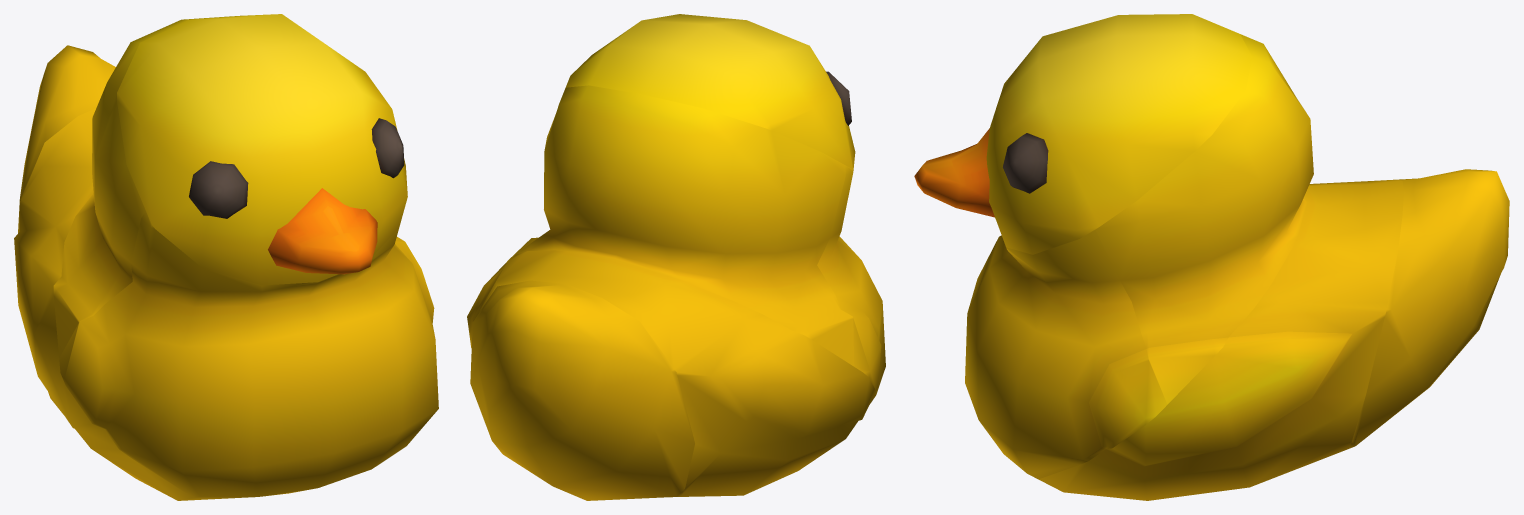
The model's file is Duck Toy break.fbx.
3 views of the same model, side by side, from view 1: azimuth 30°, elevation 25°; view 2: azimuth 150°, elevation 25°; view 3: azimuth 270°, elevation 25° (orthographic).
Parts seen in each view (by area): view 1: Duck Toy.005, Duck Toy.002, Duck Toy.004, Duck Toy, Duck Toy.001, Duck Toy.003; view 2: Duck Toy, Duck Toy.003, Duck Toy.004, Duck Toy.002, Duck Toy.005; view 3: Duck Toy.004, Duck Toy.002, Duck Toy, Duck Toy.005, Duck Toy.003, Duck Toy.001.
Part boxes in pixels (box(x1,y1,x2,y2)): Duck Toy.005: box(59, 211, 438, 498); Duck Toy.002: box(117, 14, 407, 285); Duck Toy.004: box(14, 108, 303, 500); Duck Toy: box(53, 15, 405, 357); Duck Toy.001: box(268, 188, 377, 274); Duck Toy.003: box(18, 45, 115, 232); Duck Toy: box(506, 85, 854, 366); Duck Toy.003: box(470, 280, 694, 500); Duck Toy.004: box(467, 250, 875, 497); Duck Toy.002: box(565, 14, 855, 169); Duck Toy.005: box(817, 165, 885, 398); Duck Toy.004: box(1038, 179, 1403, 500); Duck Toy.002: box(986, 14, 1251, 254); Duck Toy: box(1095, 34, 1313, 404); Duck Toy.005: box(965, 230, 1167, 479); Duck Toy.003: box(1349, 169, 1509, 448); Duck Toy.001: box(914, 128, 994, 217).
Bounding box in the file's own units: 12.05 × 13.82 × 17.42.
